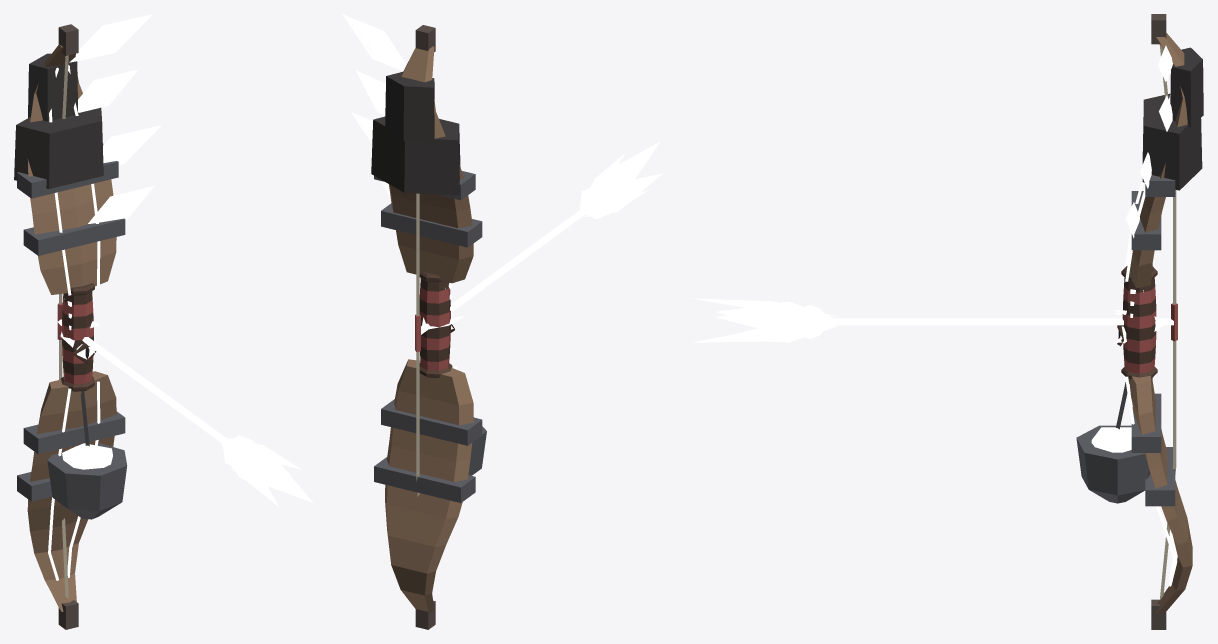
File: bow-fire-arrow.glb
The picture shows the model from 3 angles, left to right: view 1: azimuth 30°, elevation 25°; view 2: azimuth 150°, elevation 25°; view 3: azimuth 270°, elevation 25°; orthographic projection. The views are drawn at different scales.
Visible parts, largest first — view 1: bow-fire-arrow, pulse_arrow, pulse_vein, string; view 2: bow-fire-arrow, pulse_arrow, string; view 3: bow-fire-arrow, pulse_arrow, string, pulse_vein.
Part boxes in pixels (box(x1,y1,x2,y2)): bow-fire-arrow: box(14, 14, 161, 629); pulse_arrow: box(58, 319, 313, 507); pulse_vein: box(48, 65, 100, 580); string: box(57, 55, 68, 598); bow-fire-arrow: box(342, 14, 486, 629); pulse_arrow: box(421, 142, 662, 334); string: box(415, 193, 420, 496); bow-fire-arrow: box(1076, 14, 1203, 629); pulse_arrow: box(692, 298, 1173, 343); string: box(1159, 44, 1177, 600); pulse_vein: box(1125, 70, 1177, 586).
Bounding box in the file's own units: 0.3442 × 1.53 × 1.16.
